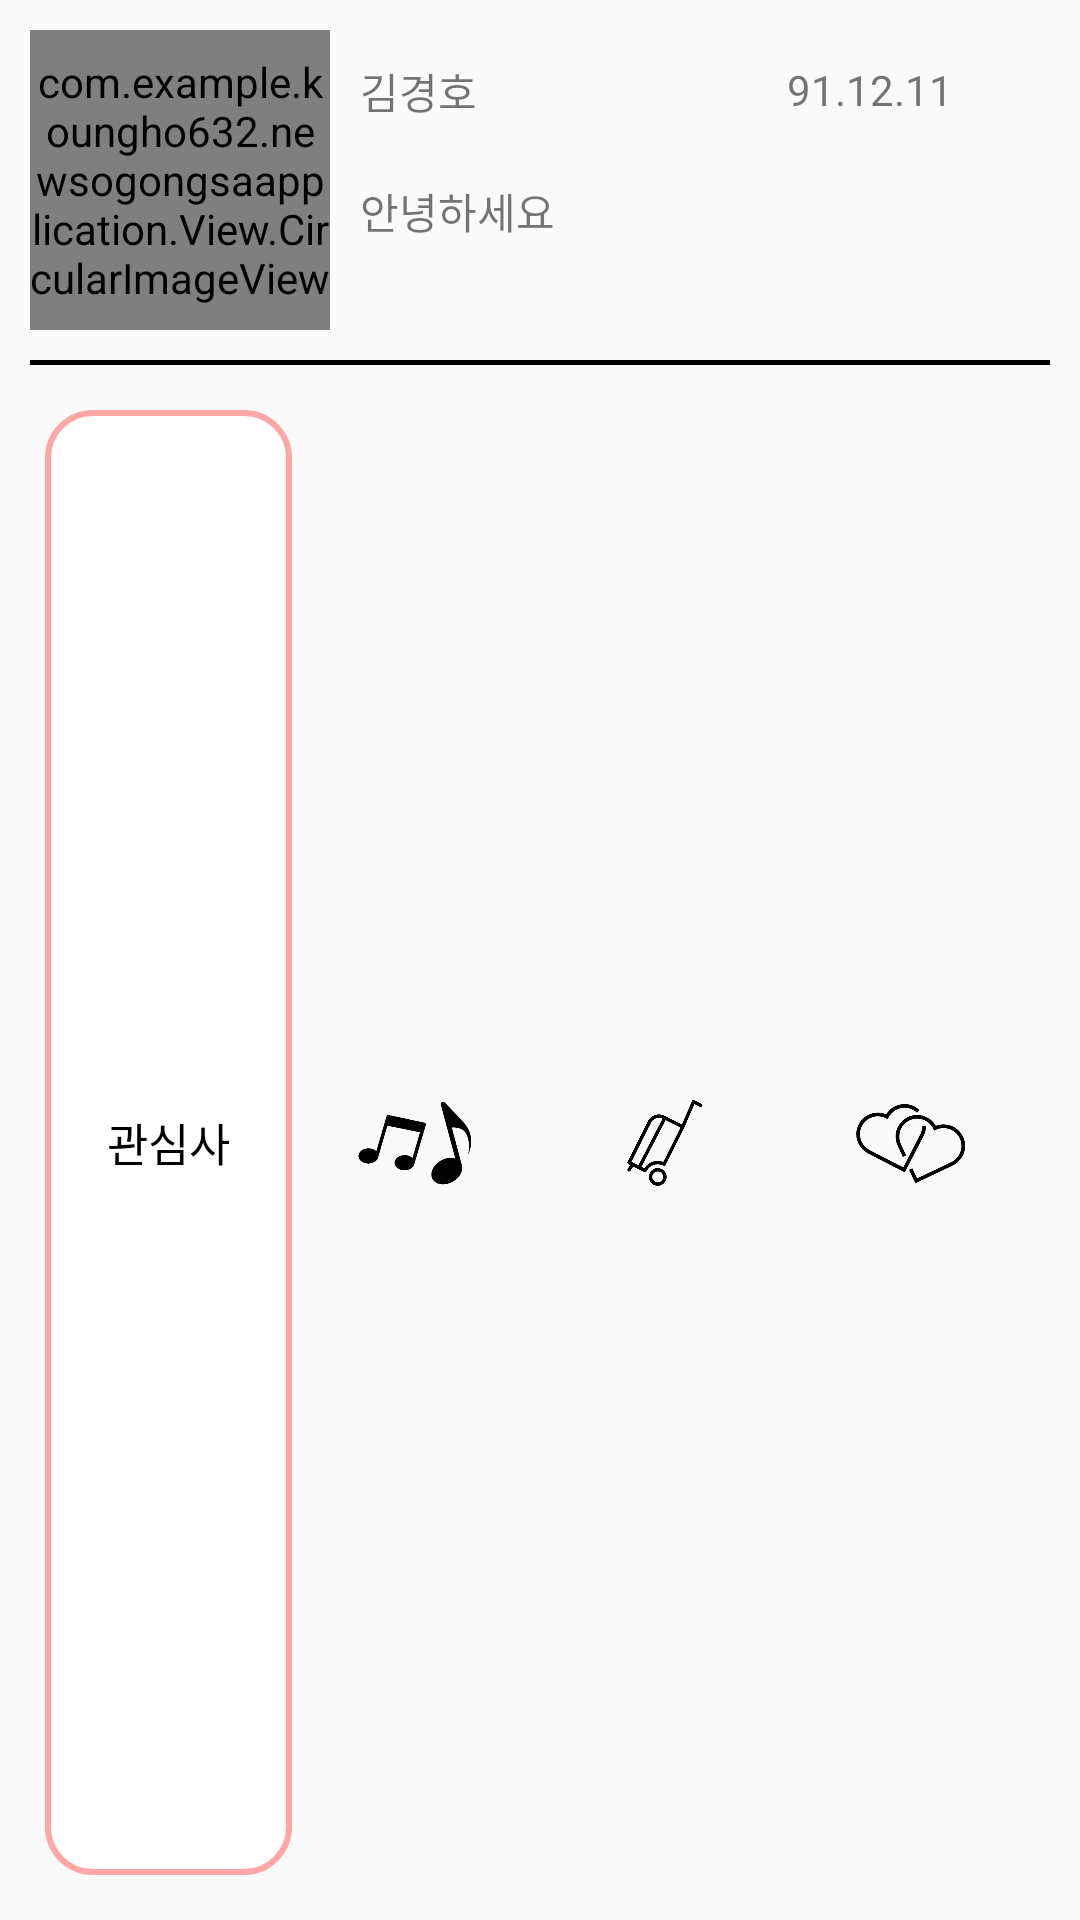

Icon bounding boxes for this 1080×1920 phone screenshot, format bbox=[x1, y1, x2, y2]:
category love: bbox=[856, 1104, 965, 1183]
category music: bbox=[358, 1101, 471, 1185]
category travel: bbox=[627, 1100, 703, 1186]
